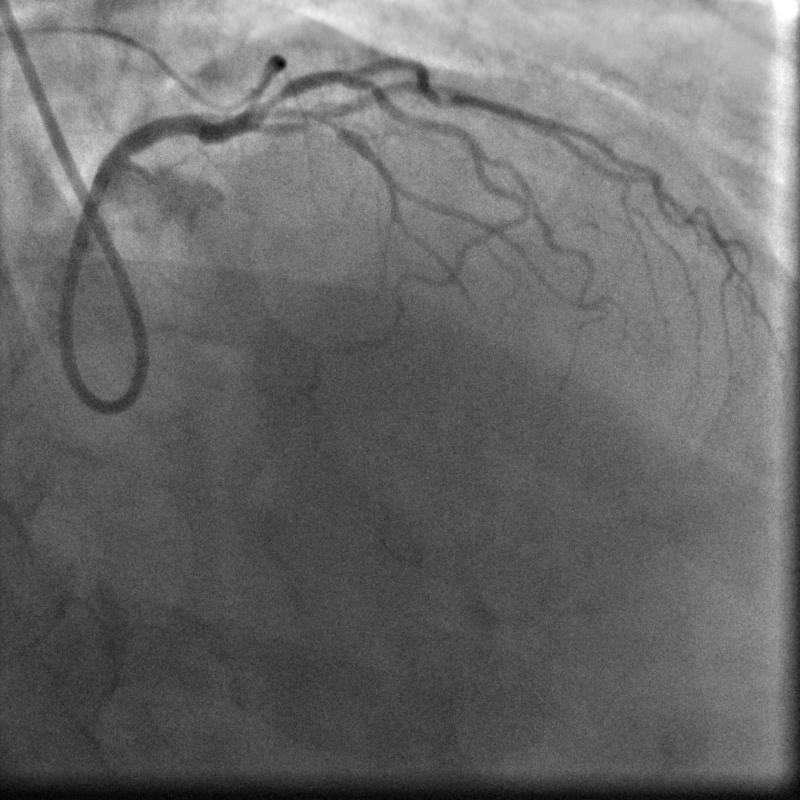Stenosis: (256, 92, 287, 117)
